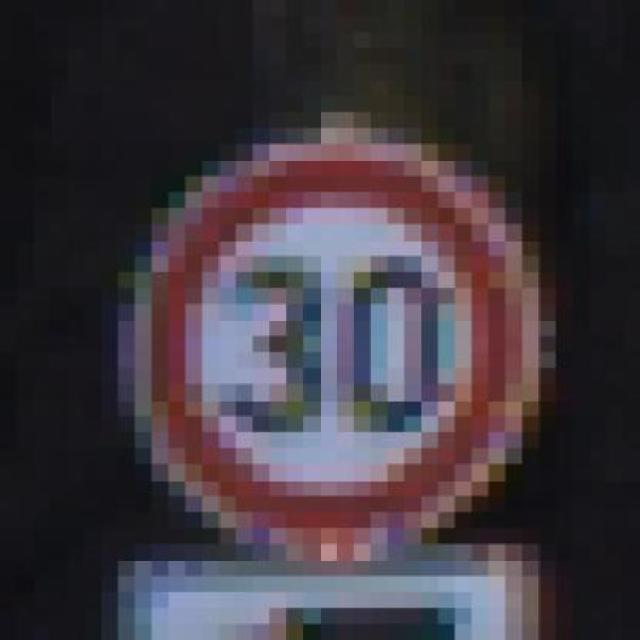Speed Limit 30 KMPh: (50, 144, 590, 561)
